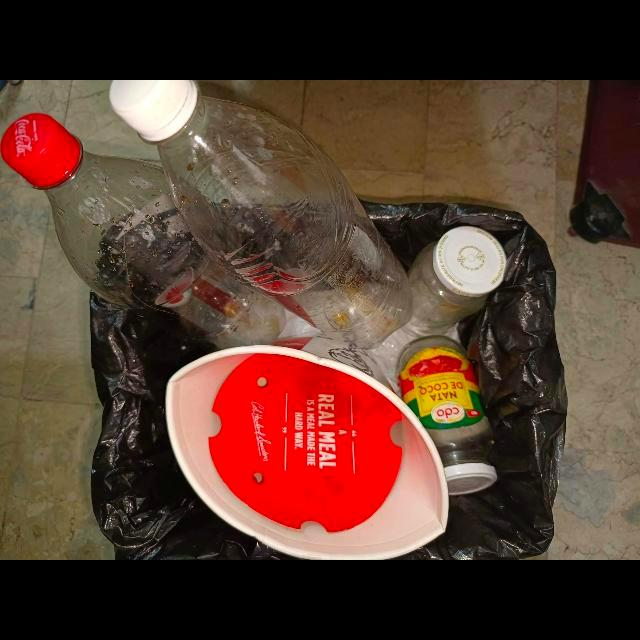cardboard: (165, 336, 449, 560)
glass_bottle: (397, 336, 497, 498), (404, 226, 506, 334)
plastic_bottle: (109, 80, 413, 352), (1, 112, 288, 352)
